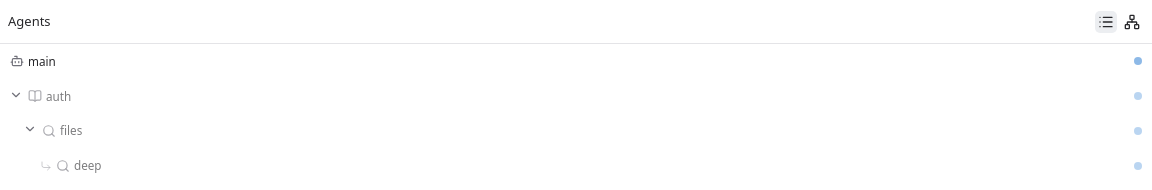
SubagentsPanel › preserves a nested row's collapsed state when its parent unmounts it
The image size is (1152, 190).
Click the button with test id "subagent-collapse-toggle": x=30, y=129 [22,121,38,137]
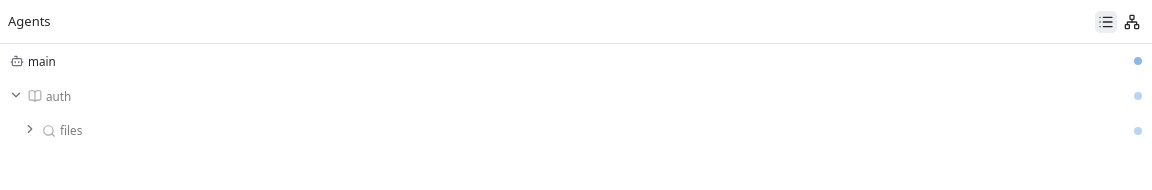
Result: the button with test id "subagent-collapse-toggle" is collapsed at [22,121,38,137]
Click the button with test id "subagent-collapse-toggle": x=16, y=95 [8,87,24,103]
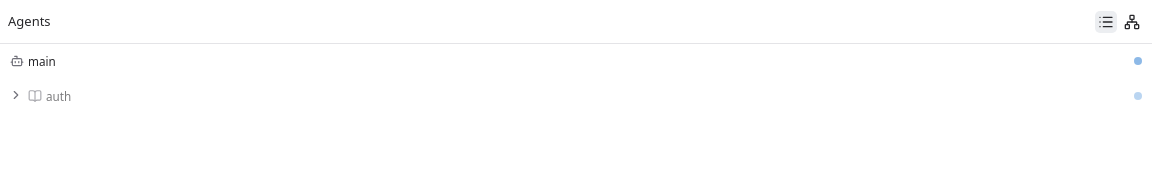
Click the button with test id "subagent-collapse-toggle": x=16, y=95 [8,87,24,103]
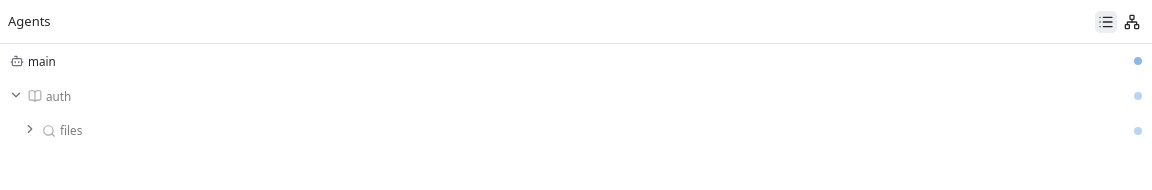
Result: the button with test id "subagent-collapse-toggle" is collapsed at [22,121,38,137]
Result: the link "files" is shown at [42,122,1142,138]
